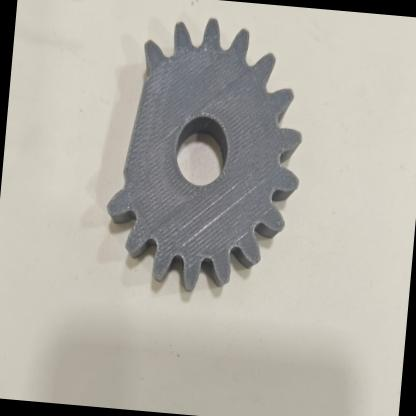defect: (84, 29, 178, 213)
gear: (55, 0, 338, 353)
